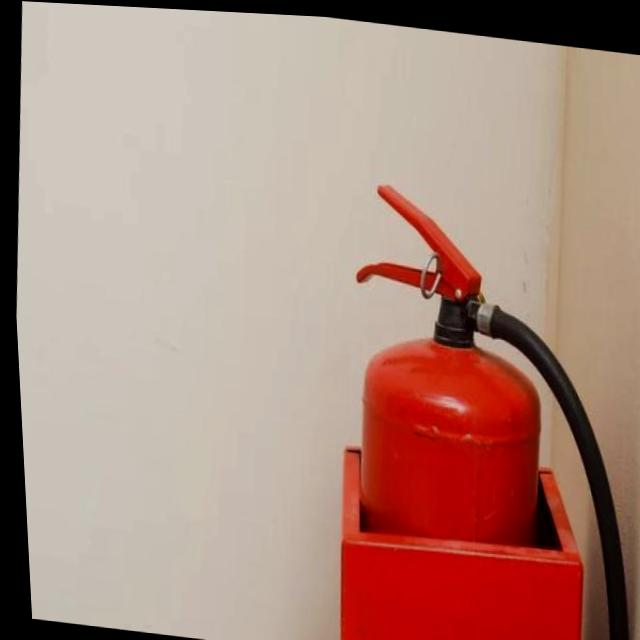FireExtinguisher: (318, 171, 640, 640)
